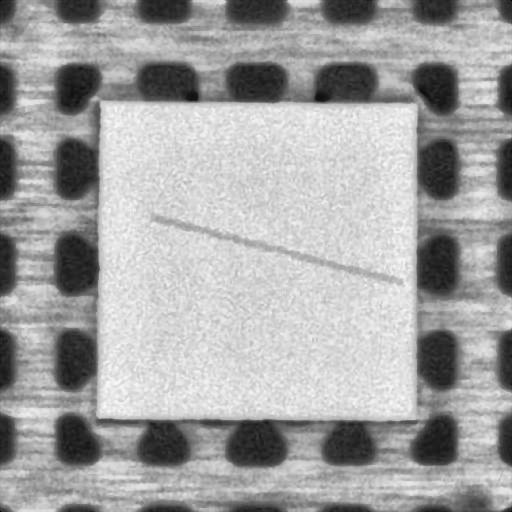DIE_CRACK: (152, 216, 398, 282)
